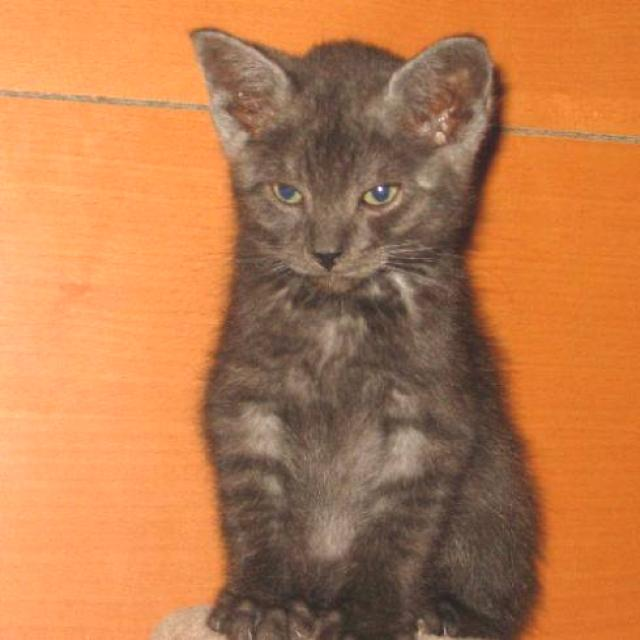Kucing: (116, 8, 590, 640)
